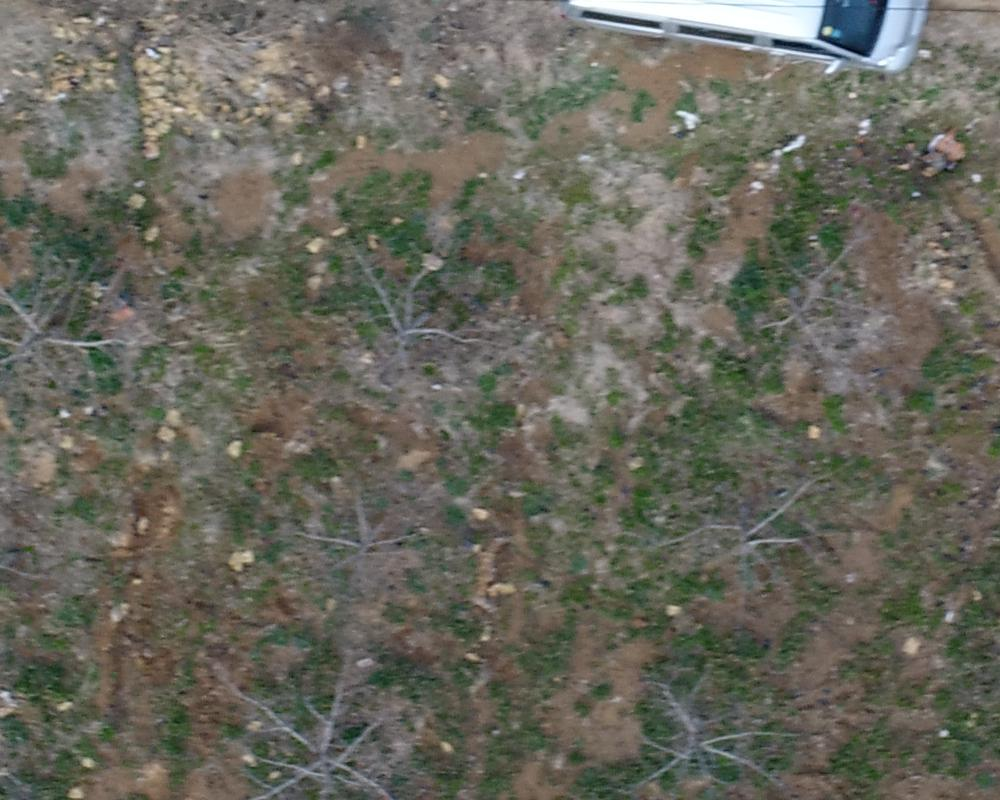apple: (614, 444, 848, 615), (700, 185, 918, 367), (312, 219, 523, 407), (205, 644, 464, 790), (586, 664, 834, 790), (10, 230, 170, 412), (257, 467, 459, 607)
